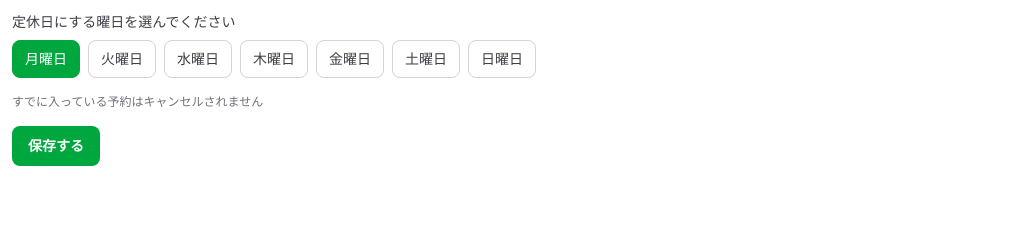
it: 全部外して保存すると、定休日なし（空の配列）を送る
Click the button "月曜日" at (46, 59), box [12,40,80,78]
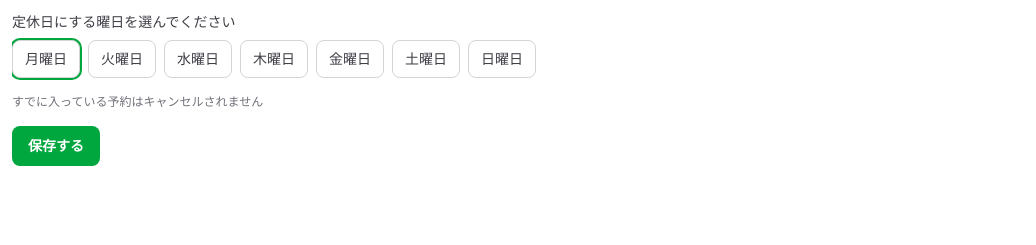
Click the button "保存する" at (56, 146), box [12,126,100,166]
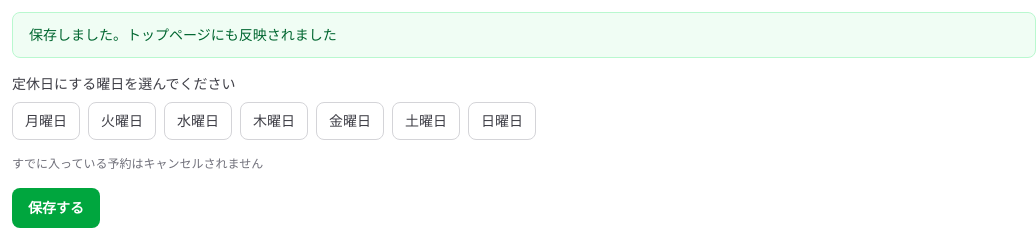
Expected: the text "保存しました。トップページにも反映されました" is shown, [12,12,1035,58]
